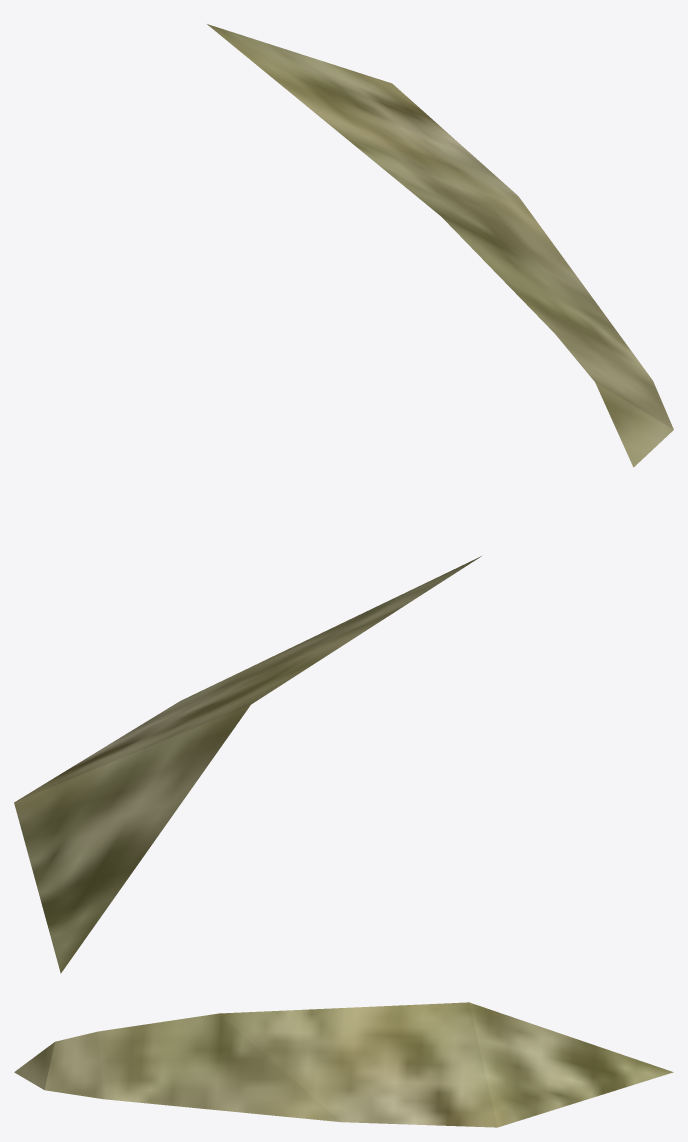
3 renders of one model, top to bottom at view 1: azimuth 30°, elevation 25°; view 2: azimuth 150°, elevation 25°; view 3: azimuth 270°, elevation 25°, orthographic. The views are drawn at different scales.
Size of the model in its own units: 0.2645 by 0.1559 by 1.33.
1 material, 1 textured.
